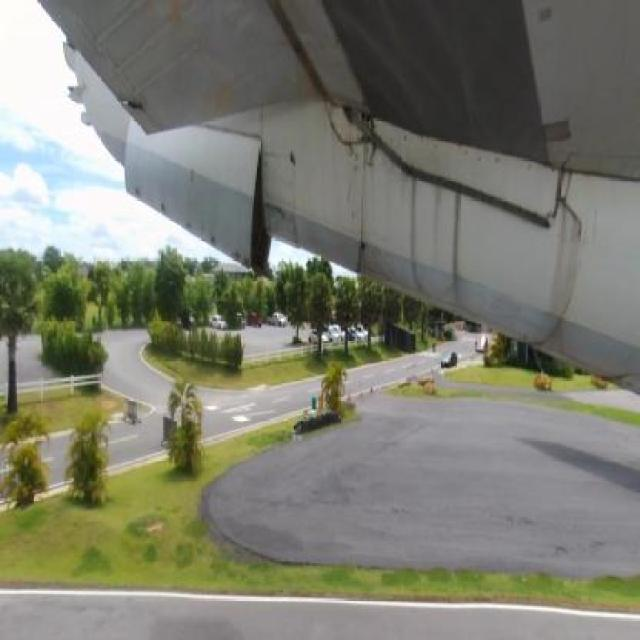Rust: (396, 154, 484, 320), (542, 167, 584, 362), (125, 2, 213, 73), (318, 91, 389, 178), (256, 140, 306, 258), (335, 183, 388, 292), (252, 48, 337, 112), (191, 41, 252, 124), (229, 245, 263, 289), (181, 212, 201, 250), (156, 194, 176, 226), (204, 220, 221, 254), (131, 178, 144, 199)
Scartch: (340, 130, 362, 228), (116, 89, 156, 128)
